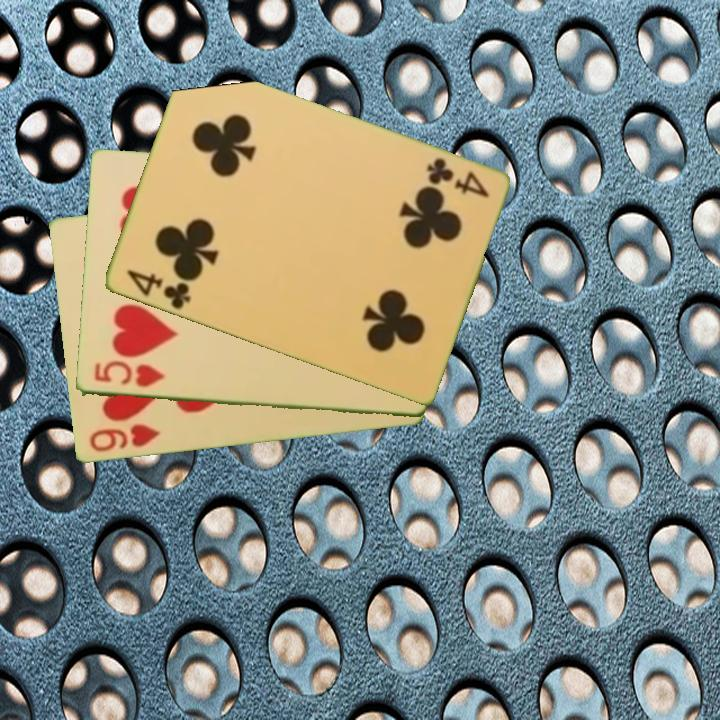4c: (123, 266, 194, 313), (422, 154, 492, 201)
5h: (90, 359, 167, 391)
9h: (86, 421, 163, 455)
